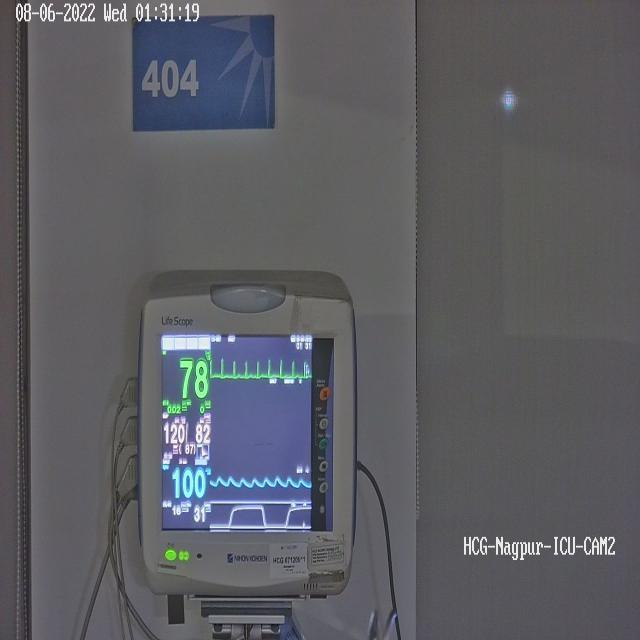Monitor: (136, 268, 358, 602)
